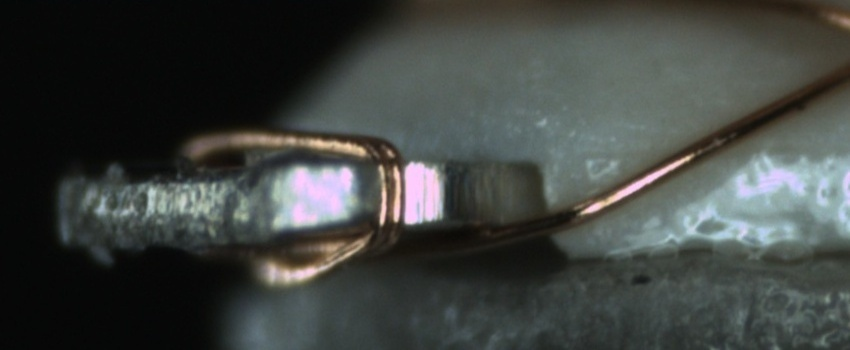TE: (171, 112, 411, 284)
